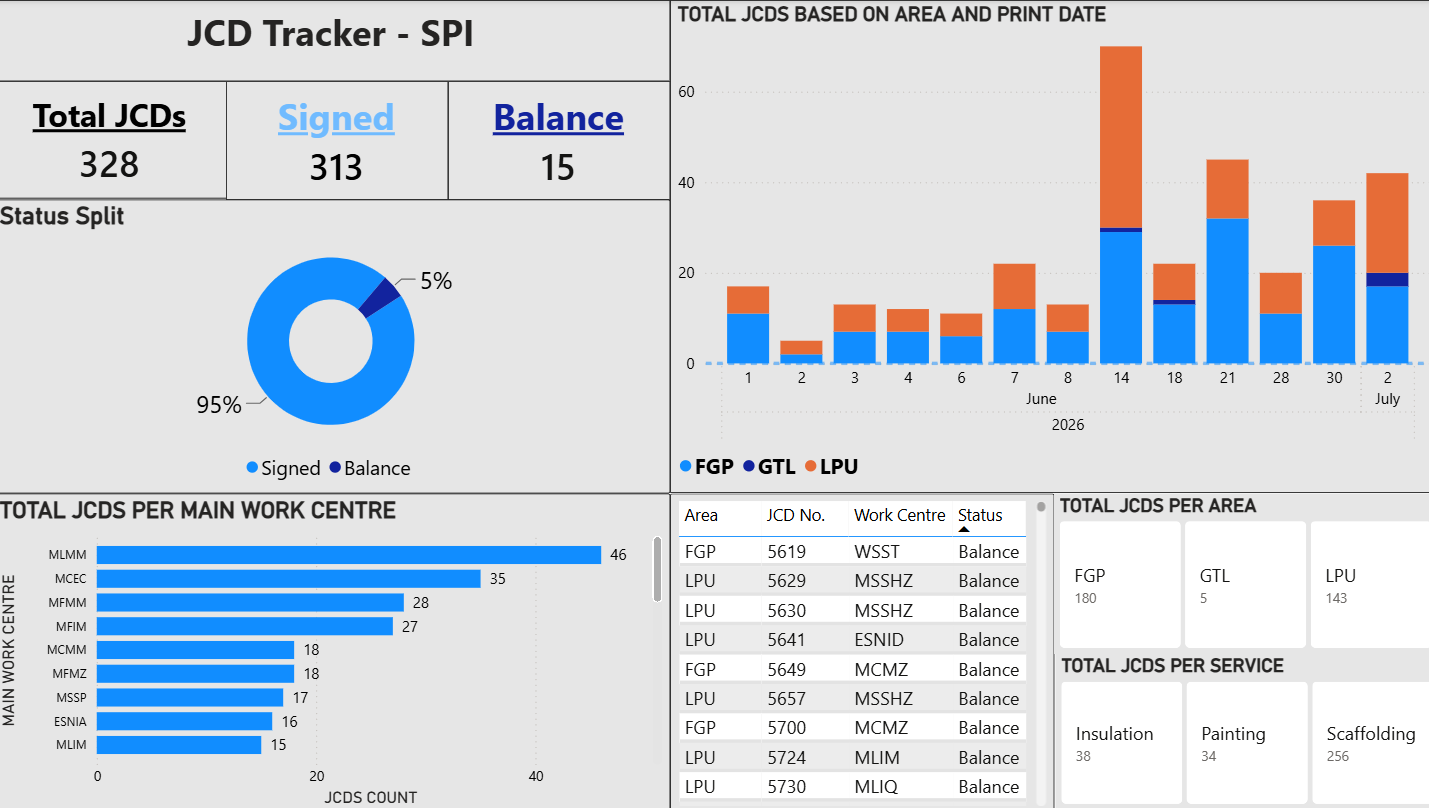

This screenshot's page, from the dashboard's own definition file:
{"tool":"powerbi","page":{"name":"DASHBOARD","canvas":[1280,720],"ordinal":0},"visuals":[{"type":"textbox","box":[0,0,600,72],"z":0},{"type":"cardVisual","title":"Total JCDs","fields":{"Data":["Count(Merged.JCD No.)"]},"box":[0,72,208,104],"z":1000},{"type":"cardVisual","fields":{"Data":["Count(Merged.JCD No.)"]},"box":[206.7,71.7,196.7,105],"z":2000},{"type":"cardVisual","fields":{"Data":["Count(Merged.JCD No.)"]},"box":[403.3,71.7,196.7,105],"z":3000},{"type":"donutChart","title":"Status Split","fields":{"Category":["Merged.Status"],"Y":["Count(Merged.JCD No.)"]},"box":[0,176,600,260],"z":4000},{"type":"columnChart","title":"TOTAL JCDS BASED ON AREA AND PRINT DATE","fields":{"Category":["Merged.Print Date.Variation.Date Hierarchy.Year","Merged.Print Date.Variation.Date Hierarchy.Month","Merged.Print Date.Variation.Date Hierarchy.Day"],"Y":["Count(Merged.JCD No.)"],"Series":["Merged.Exact Area"]},"box":[599.6,0,679.9,436.1],"z":5000},{"type":"clusteredBarChart","title":"TOTAL JCDS PER MAIN WORK CENTRE","fields":{"Category":["Merged.Work Centre"],"Y":["Count(Merged.JCD No.)"]},"box":[0,436,600,284],"z":6000},{"type":"tableEx","fields":{"Values":["Merged.Area","Merged.JCD No.","Merged.Work Centre","Merged.Status"]},"box":[600,436,340,284],"z":7000},{"type":"advancedSlicerVisual","title":"TOTAL JCDS PER AREA","fields":{"Values":["Merged.Exact Area"],"Label":["Count(Merged.JCD No.)"]},"box":[940,436,340,142],"z":8000},{"type":"advancedSlicerVisual","title":"TOTAL JCDS PER SERVICE","fields":{"Values":["Merged.Service"],"Label":["Count(Merged.JCD No.)"]},"box":[940.3,578.4,339.2,137.8],"z":9000}]}

Visuals, with their boxes in screenshot pixels (x1, y1, x2, y2), scaled from the page's 1280x720 canvas onto the 1429x808 screenshot:
textbox: {"x1": 0, "y1": 0, "x2": 670, "y2": 81}
"Total JCDs" cardVisual: {"x1": 0, "y1": 81, "x2": 232, "y2": 198}
cardVisual - Count(Merged.JCD No.): {"x1": 231, "y1": 80, "x2": 450, "y2": 198}
cardVisual - Count(Merged.JCD No.): {"x1": 450, "y1": 80, "x2": 670, "y2": 198}
"Status Split" donutChart: {"x1": 0, "y1": 198, "x2": 670, "y2": 489}
"TOTAL JCDS BASED ON AREA AND PRINT DATE" columnChart: {"x1": 669, "y1": 0, "x2": 1428, "y2": 489}
"TOTAL JCDS PER MAIN WORK CENTRE" clusteredBarChart: {"x1": 0, "y1": 489, "x2": 670, "y2": 807}
tableEx - Merged.Area x Merged.JCD No.: {"x1": 670, "y1": 489, "x2": 1049, "y2": 807}
"TOTAL JCDS PER AREA" advancedSlicerVisual: {"x1": 1049, "y1": 489, "x2": 1428, "y2": 649}
"TOTAL JCDS PER SERVICE" advancedSlicerVisual: {"x1": 1050, "y1": 649, "x2": 1428, "y2": 804}
